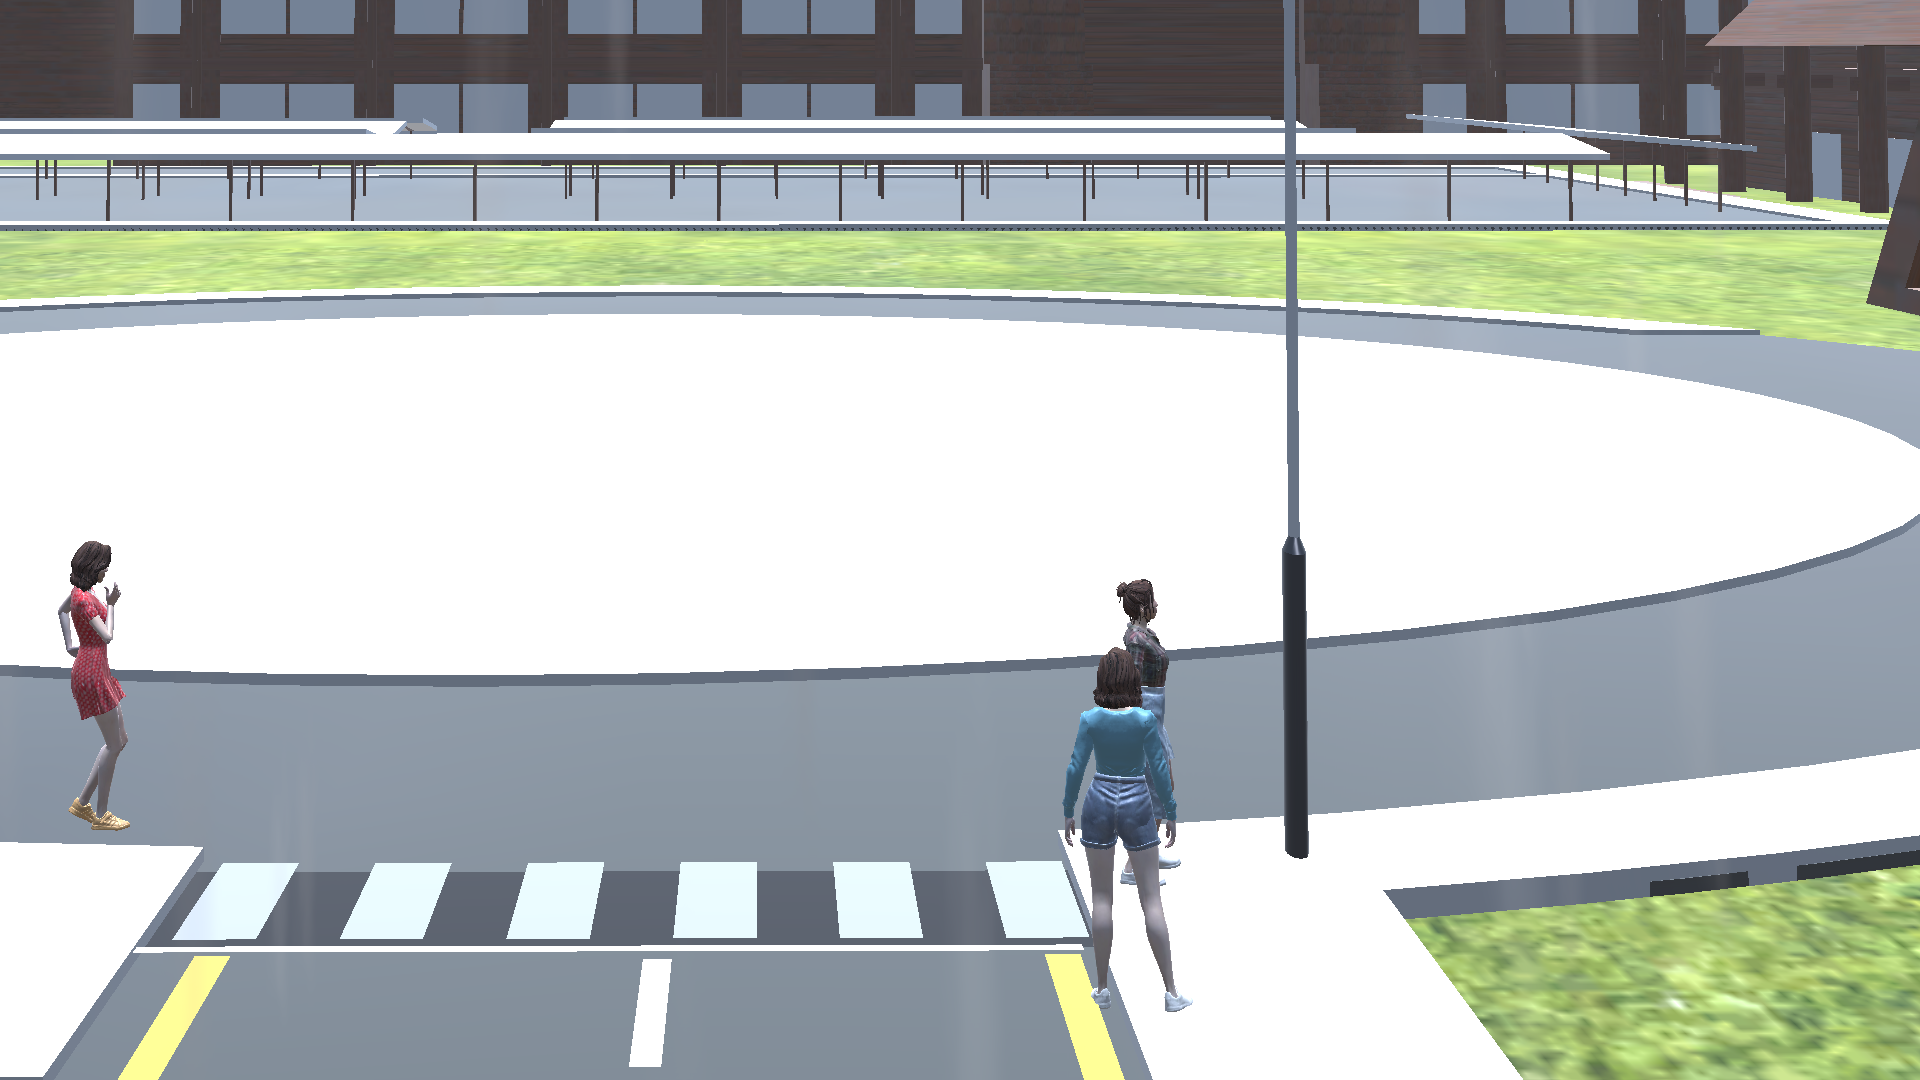pedestrian: (1063, 640, 1193, 1026), (49, 535, 144, 836), (1115, 573, 1174, 765)
